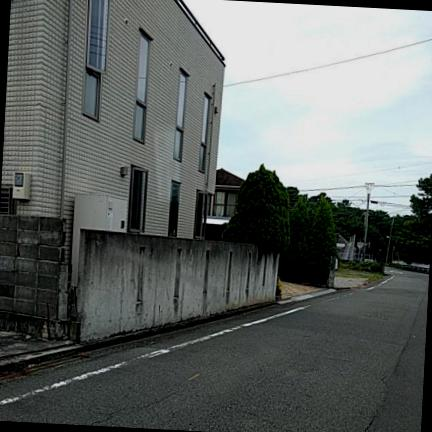Road: (0, 272, 428, 431)
